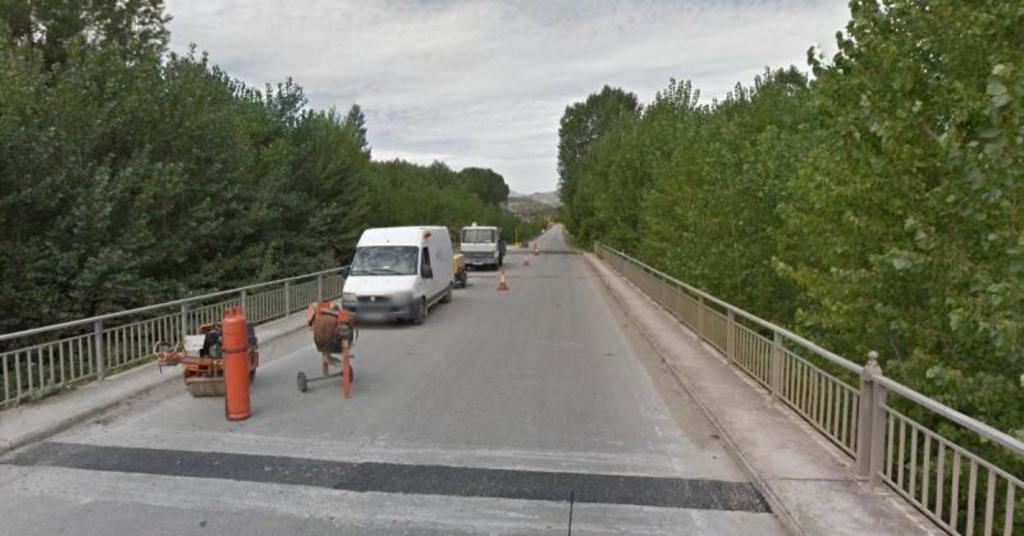Tree: (554, 0, 1022, 534), (0, 0, 545, 405)
